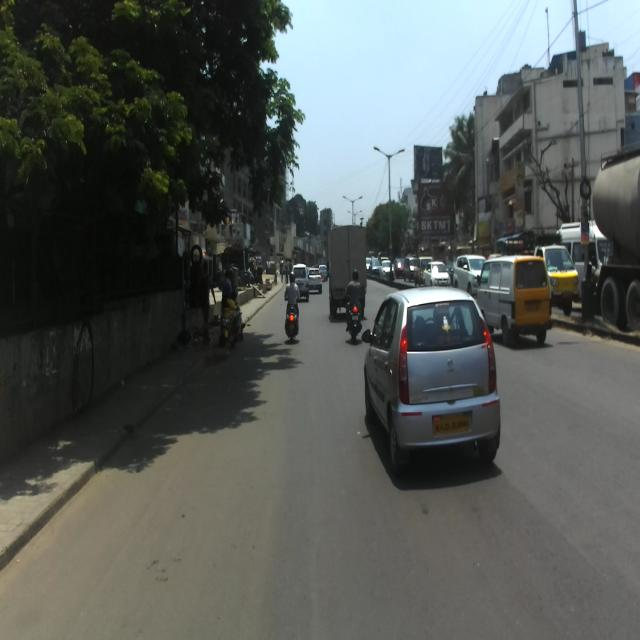car ahead at: (363, 287, 506, 485)
